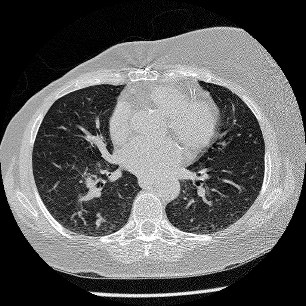nodule: (96, 220, 100, 224)
